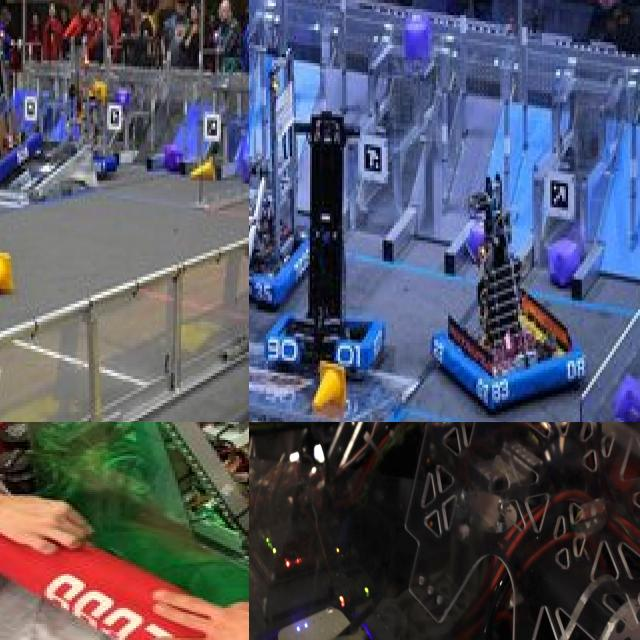FRC-Robots: (249, 422, 640, 640), (0, 422, 249, 640), (429, 191, 583, 422), (56, 68, 110, 218), (0, 85, 35, 213)
